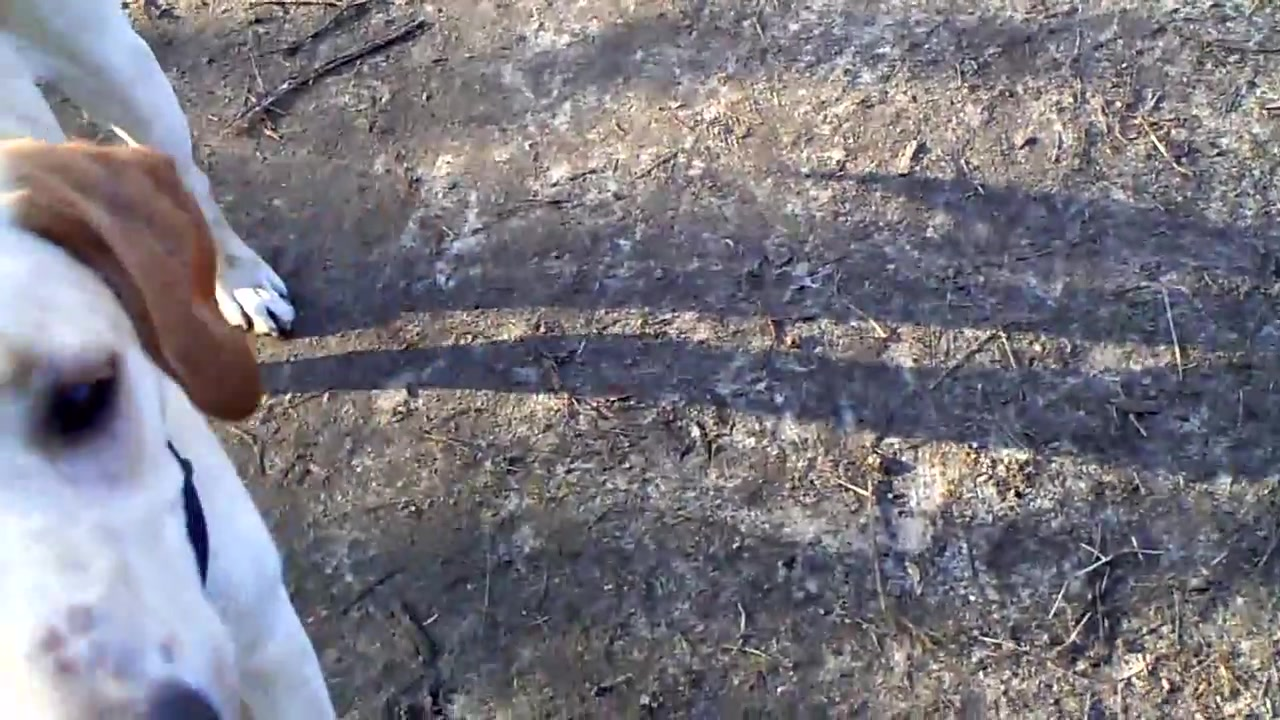dog: (1, 2, 341, 720)
